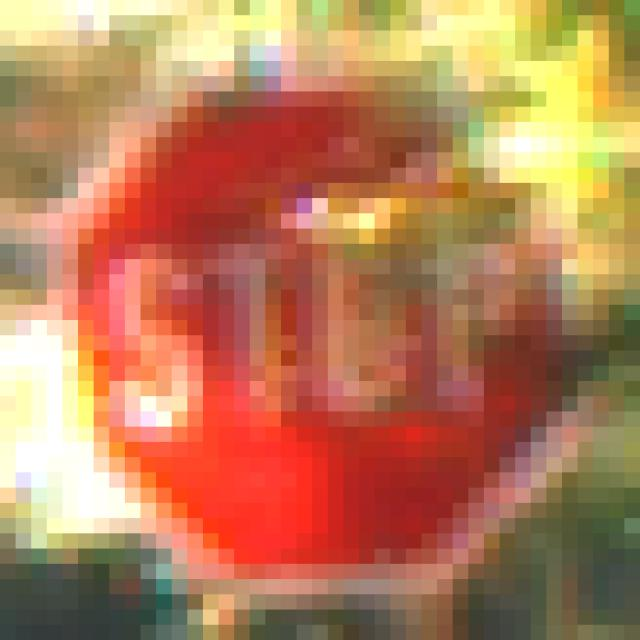STOP: (79, 77, 563, 565)
